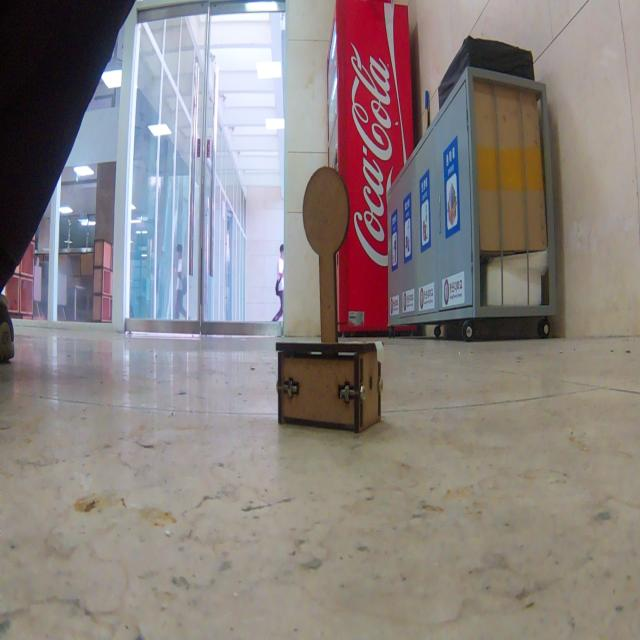target: (275, 168, 384, 433)
